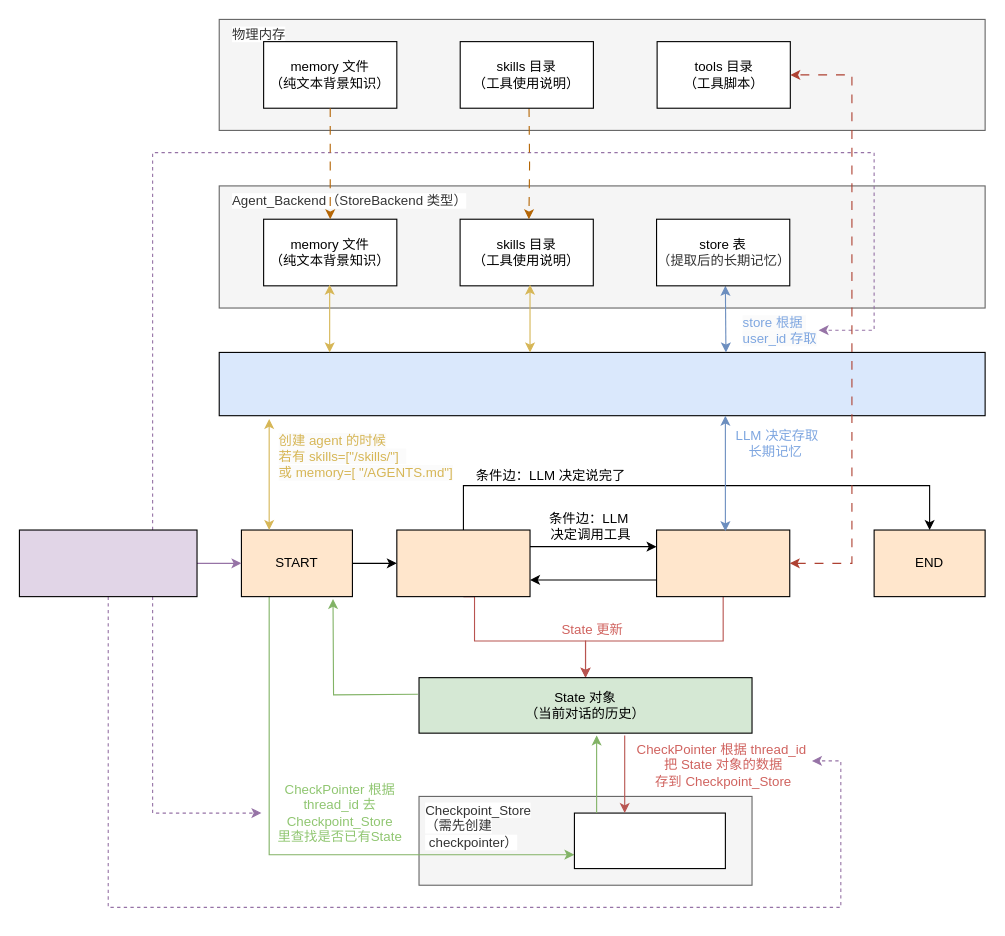
The diagram is 1005 pixels wide and 936 high, and some of its shapes have lost their labels. Each missing label, with the centre of its shape:
Call Model 节点 （LLM决策）: the point at 463,563
checkpoints 表 （ 当前对话的历史 ）: the point at 649,840
Store 对象 （管理 StoreBackend 后端连接）: the point at 601,383
Tool Execution 节点 （调用工具）: the point at 722,563
前端传递 用户消息 + config （包含 thread_id + user_id）: the point at 107,563
